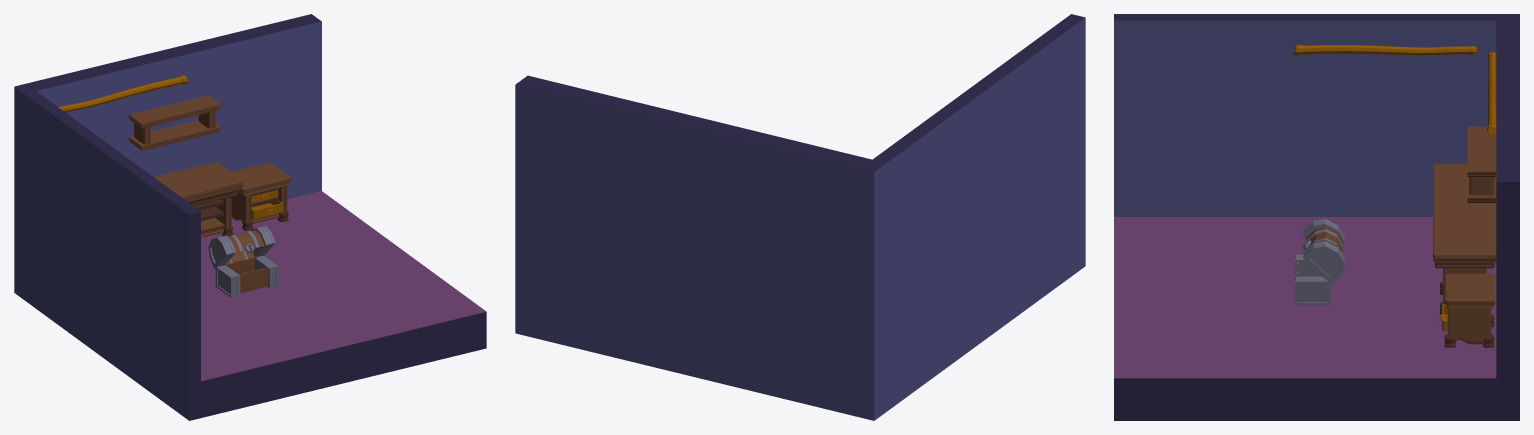
File: WinRoomTest.fbx
The picture shows the model from 3 angles, left to right: view 1: azimuth 30°, elevation 25°; view 2: azimuth 150°, elevation 25°; view 3: azimuth 270°, elevation 25°; orthographic projection. The views are drawn at different scales.
Visible parts, largest first — view 1: Cube, Cube.001, Cube.007, Cube.002, Cube.012, Cube.010, Cube.005; view 2: Cube; view 3: Cube, Cube.001, Cube.002, Cube.007, Cube.010, Cube.006, Cube.012, Cube.005.
Part boxes in pixels (x1,y1,x2,y2): Cube: (14, 14, 486, 420); Cube.001: (154, 162, 243, 237); Cube.007: (128, 95, 220, 150); Cube.002: (231, 162, 290, 230); Cube.012: (215, 256, 278, 297); Cube.010: (208, 226, 275, 268); Cube.005: (58, 75, 187, 112); Cube: (515, 14, 1085, 420); Cube: (1114, 14, 1519, 420); Cube.001: (1433, 163, 1496, 314); Cube.002: (1444, 273, 1495, 347); Cube.007: (1467, 126, 1496, 202); Cube.010: (1302, 218, 1344, 284); Cube.006: (1293, 44, 1477, 55); Cube.012: (1295, 254, 1330, 304); Cube.005: (1487, 51, 1496, 136).
Size of the model in its own units: 593 by 393 by 605.
